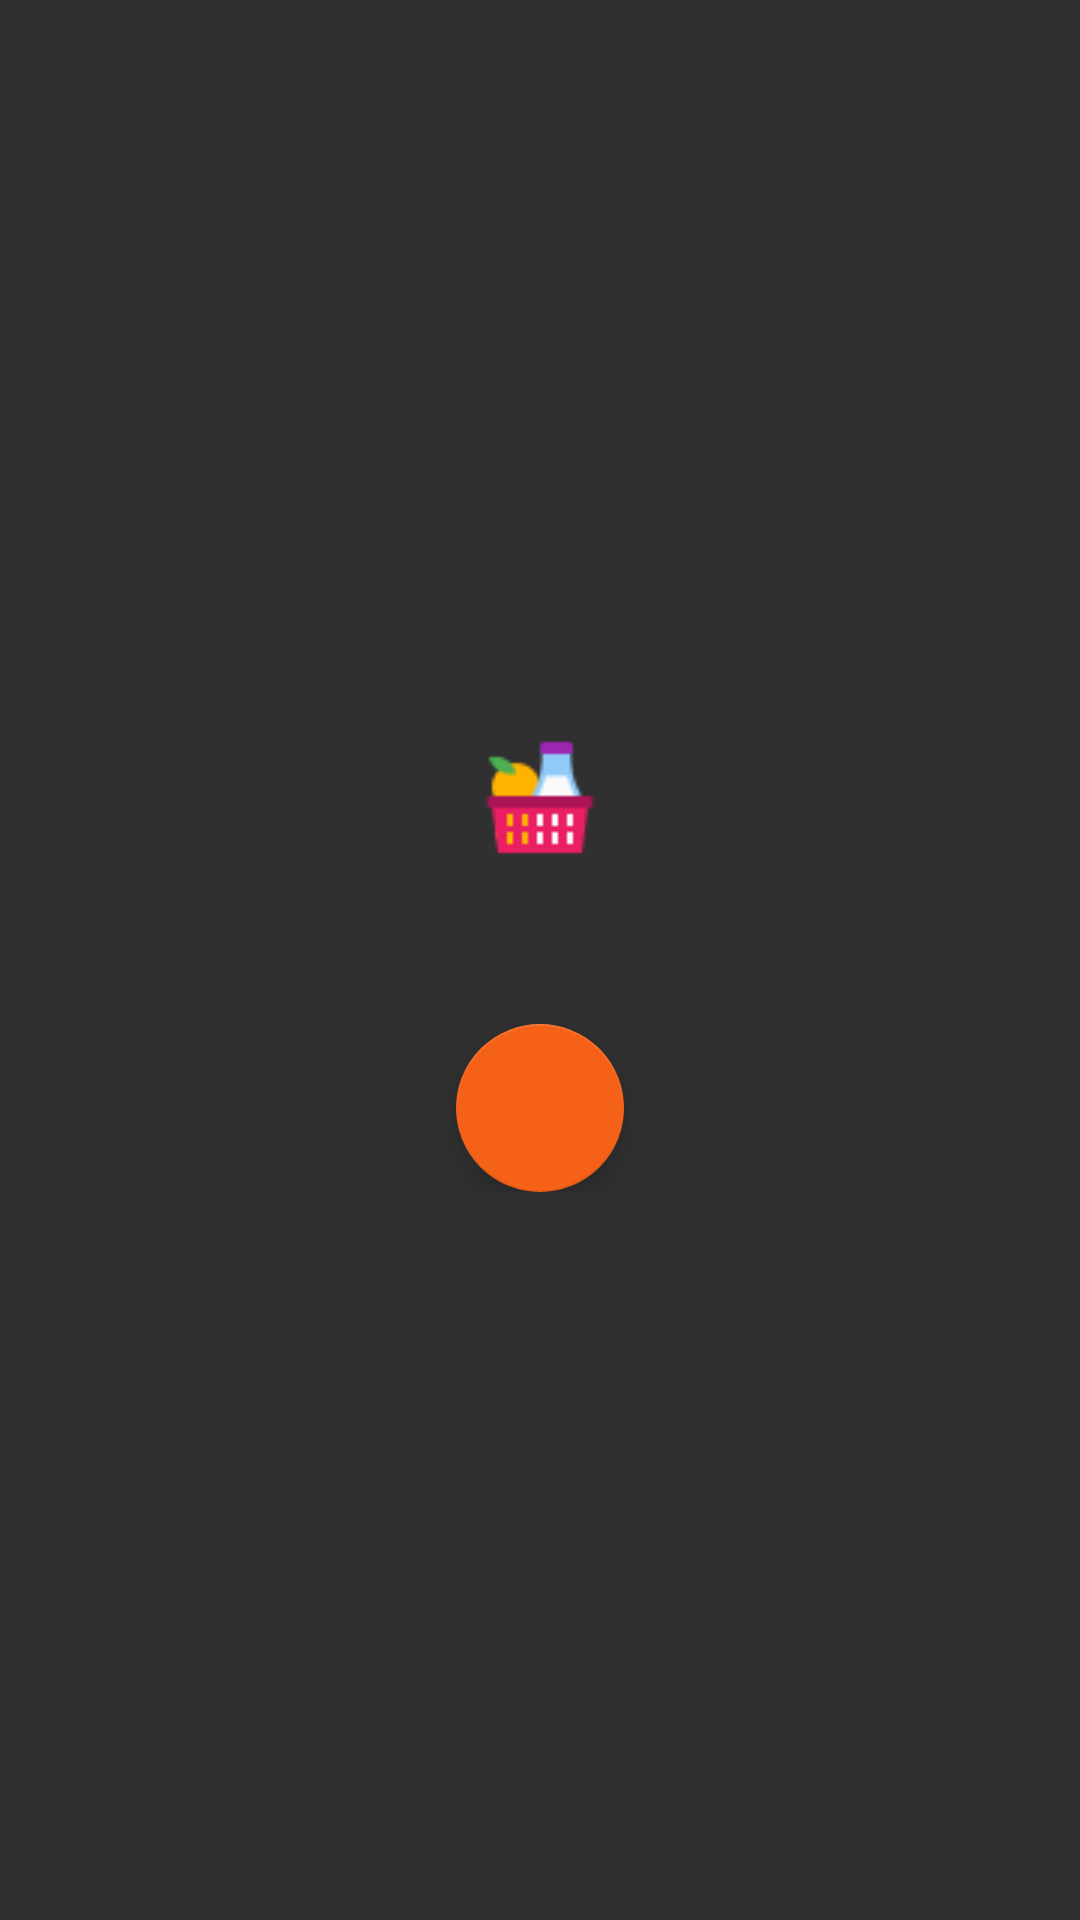

Named icons in this screenshot (1080×1920) and their bounding boxes, Rect(x1, y1, x2, y2):
ingredients: Rect(486, 741, 594, 854)
